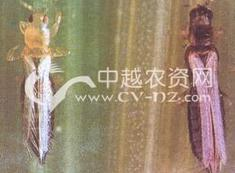pest: (184, 4, 227, 173), (22, 7, 56, 160)
